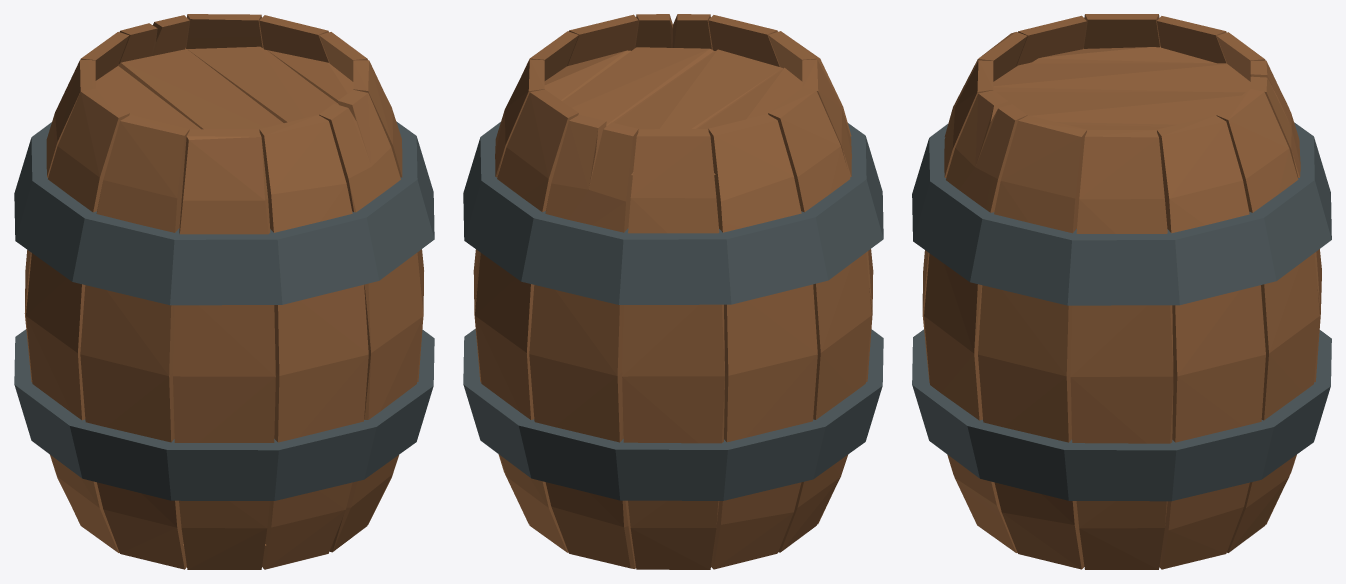
Rendered from Barrel_01.fbx.
3 renders of one model, left to right at view 1: azimuth 30°, elevation 25°; view 2: azimuth 150°, elevation 25°; view 3: azimuth 270°, elevation 25°, orthographic.
Parts seen in each view (by area): view 1: Barrel_01; view 2: Barrel_01; view 3: Barrel_01.
Part boxes in pixels (box(x1,y1,x2,y2)): Barrel_01: box(14, 14, 434, 569); Barrel_01: box(463, 14, 883, 569); Barrel_01: box(912, 14, 1331, 569).
Size of the model in its own units: 89.94 by 103 by 89.94.
